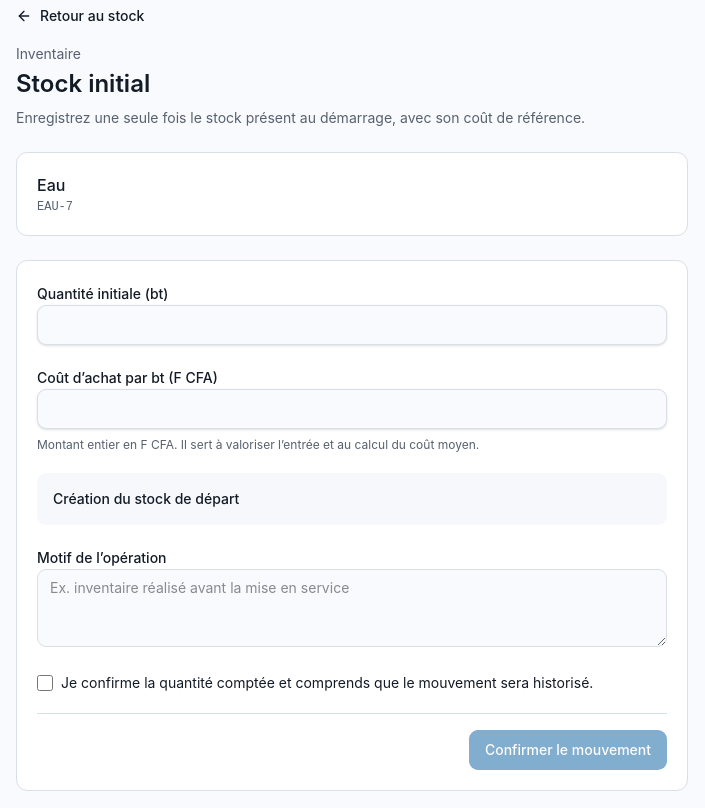
Test: parcours de comptage du stock › enregistre le stock initial avec coût FCFA, motif et confirmation explicite
The image size is (705, 808).
Check: the text "Eau" is shown, box [37,175,65,195]
Check: the button "Confirmer le mouvement" is disabled, box [469,730,667,770]
In the number field labelled "Quantité initiale (bt)": (352, 325) [37,305,667,345], type "12"
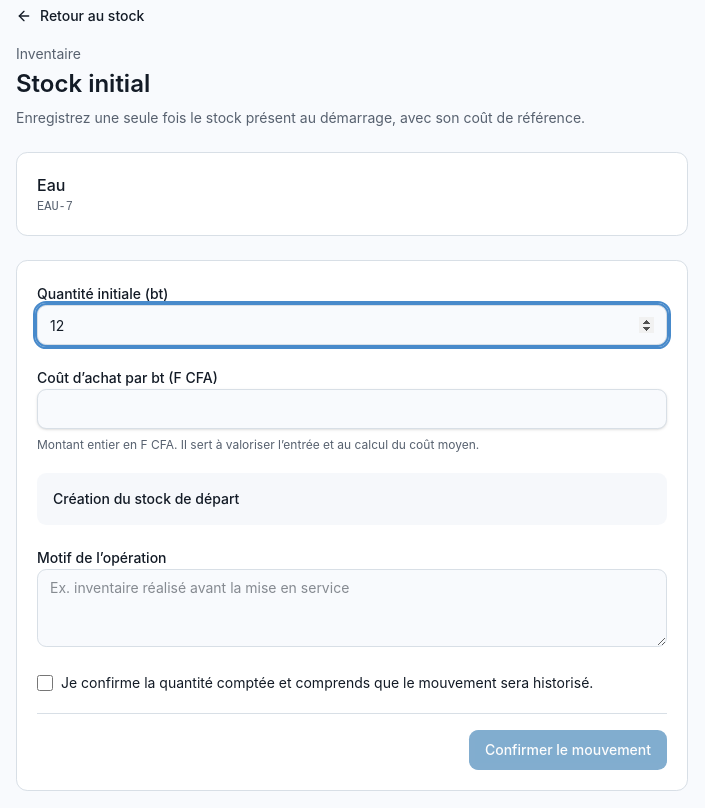
In the number field labelled "Coût d’achat par bt (F CFA)": (352, 409) [37,389,667,429], type "700"
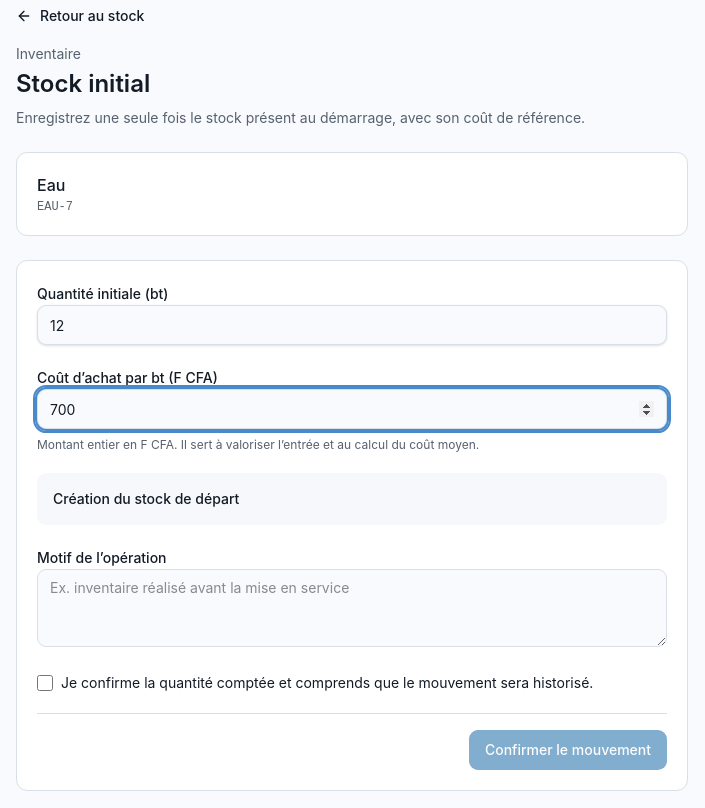
In the text box labelled "Motif de l’opération": (352, 608) [37,569,667,647], type "Inventaire avant ouverture"
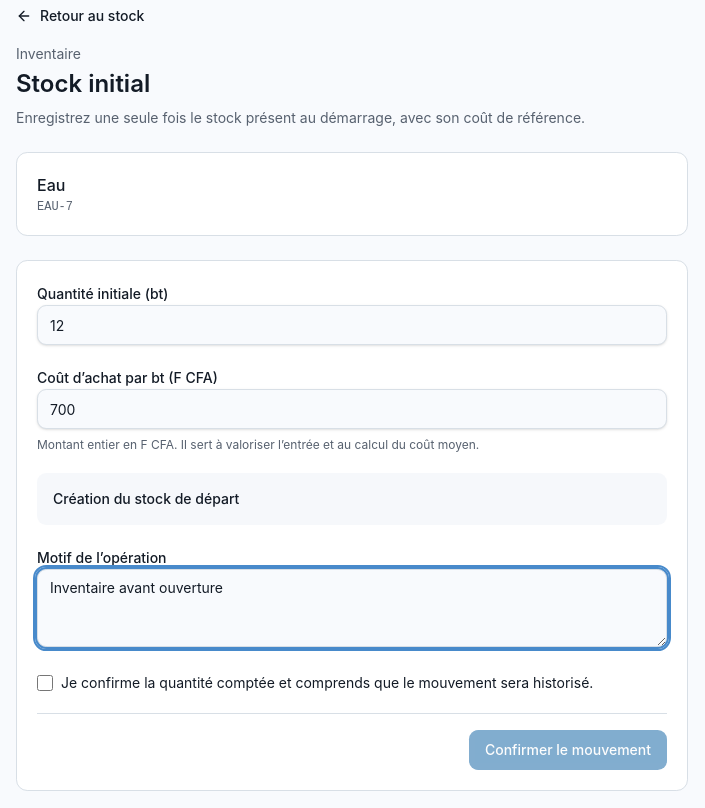
Click the checkbox: (45, 683) [37,675,53,691]
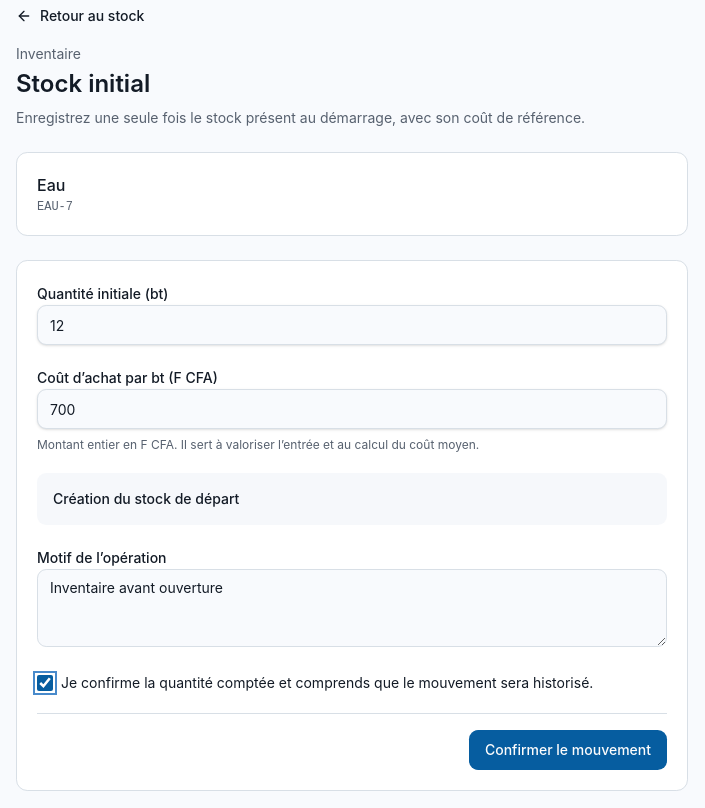
Click the button "Confirmer le mouvement": (568, 750) [469,730,667,770]
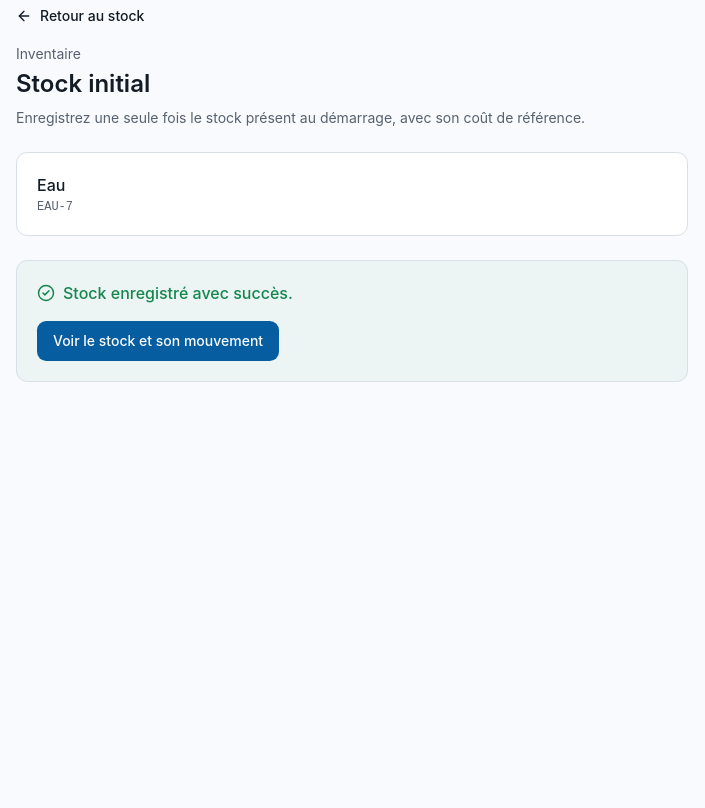
Check: the text "Stock enregistré avec succès." is shown, box [37,283,293,303]
